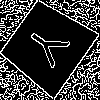Y: (22, 22, 79, 75)
